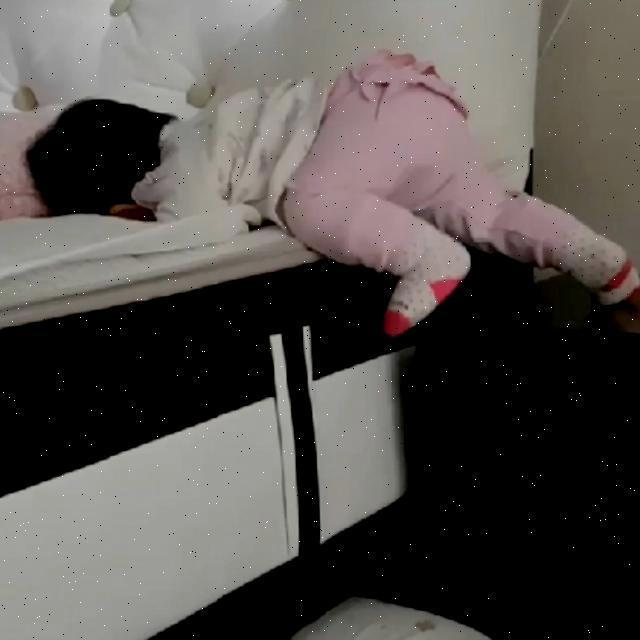child: (38, 52, 639, 326)
